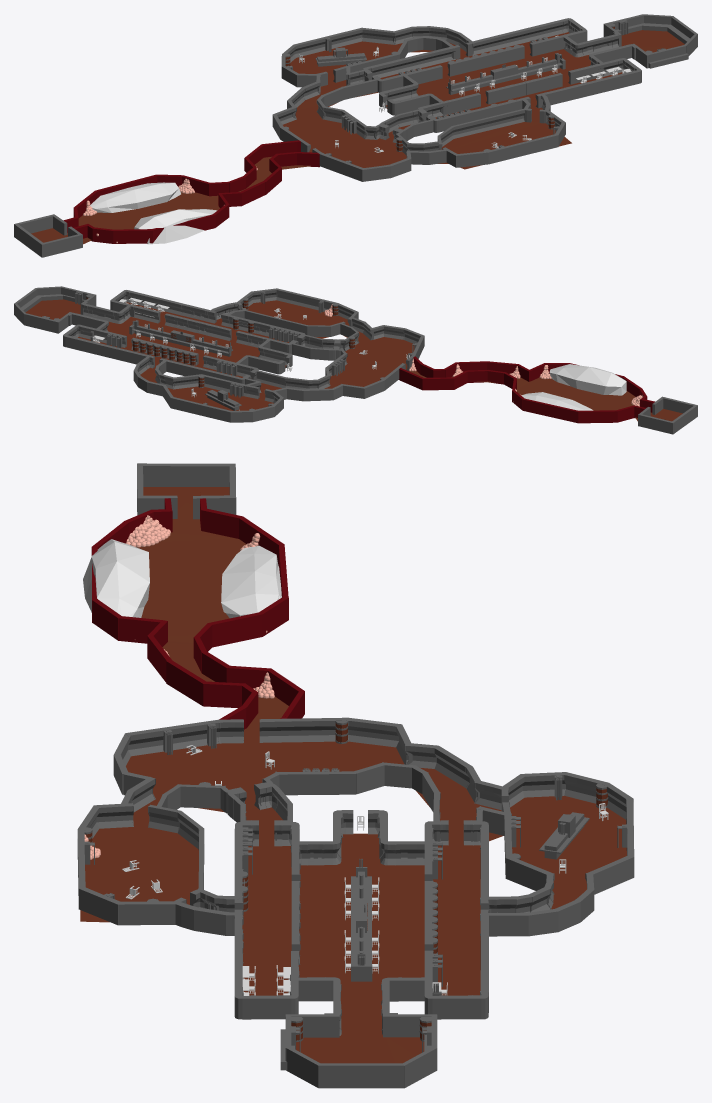
The model's file is submarine_level_object_test.glb.
3 renders of one model, top to bottom at view 1: azimuth 30°, elevation 25°; view 2: azimuth 150°, elevation 25°; view 3: azimuth 270°, elevation 25°, orthographic. The views are drawn at different scales.
Visible parts, largest first — view 1: VesselChest, Office1, ShipStomach, Common1, OilRoom, Common2, Command, Side2, Side1, VesselHall, SideHall1, VesselCore (+3 smaller); view 2: VesselChest, Office1, ShipStomach, OilRoom, Common1, Side1, Command, Side2, Common2, VesselHall, SideHall1, VesselCore (+3 smaller); view 3: VesselChest, ShipStomach, Office1, Common1, OilRoom, Common2, Side2, Side1, Command, VesselHall, SideHall1, VesselCore (+3 smaller).
Part boxes in pixels (x1,y1,x2,y2): VesselChest: (73, 174, 229, 244); Office1: (281, 26, 472, 87); ShipStomach: (272, 106, 411, 181); Common1: (379, 54, 526, 115); OilRoom: (437, 108, 571, 169); Common2: (483, 31, 604, 95); Command: (582, 14, 697, 68); Side2: (416, 58, 641, 132); Side1: (363, 18, 587, 92); VesselHall: (209, 140, 319, 206); SideHall1: (287, 66, 378, 119); VesselCore: (14, 214, 91, 257); VesselChest: (512, 363, 647, 423); Office1: (133, 356, 283, 422); ShipStomach: (325, 325, 424, 398); OilRoom: (237, 288, 358, 338); Common1: (166, 321, 292, 376); Side1: (63, 324, 258, 384); Command: (14, 286, 114, 333); Side2: (110, 290, 306, 354); Common2: (81, 304, 198, 356); VesselHall: (399, 356, 531, 390); SideHall1: (243, 369, 343, 401); VesselCore: (634, 396, 697, 434); VesselChest: (83, 508, 288, 647); ShipStomach: (113, 717, 412, 813); Office1: (488, 772, 634, 936); Common1: (291, 810, 433, 931); OilRoom: (77, 803, 204, 925); Common2: (291, 906, 433, 1036); Side2: (234, 820, 299, 1019); Side1: (424, 821, 489, 1019); Command: (280, 984, 437, 1088); VesselHall: (147, 620, 304, 741); SideHall1: (382, 743, 507, 843); VesselCore: (137, 463, 236, 530).
Size of the model in its own units: 140 by 4.54 by 54.51.
